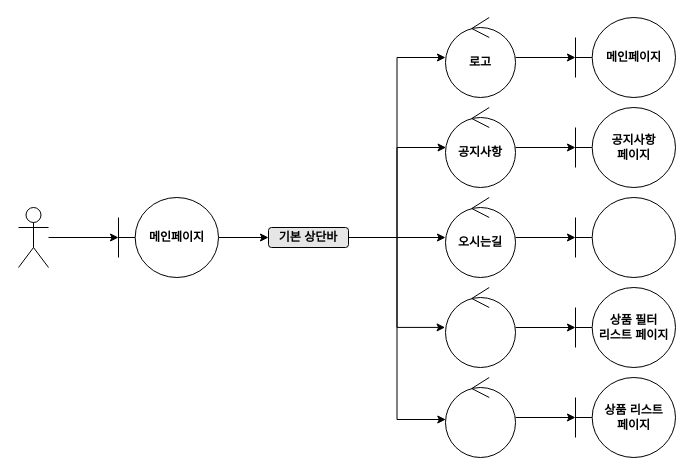
This 693x475 diagram has some shape labels left out. The shapes that lost their labels are listed below. From the top down, each one's centre as x and y in pixels, then its label:
At pixel 33 237: "사용자".
At pixel 625 237: "회사소개 페이지".
At pixel 480 327: "스마트 검색".
At pixel 480 417: "제품 검색".
